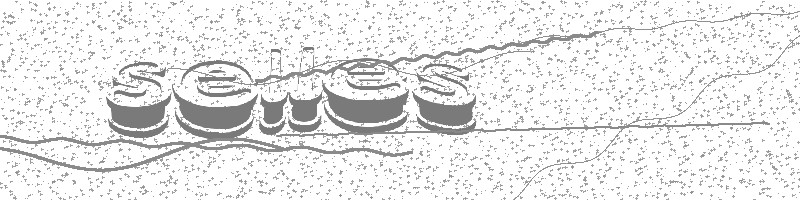e: (321, 54, 411, 137), (170, 57, 259, 139)
l: (288, 46, 324, 137), (259, 48, 287, 135)
s: (409, 60, 481, 137), (104, 57, 170, 139)
